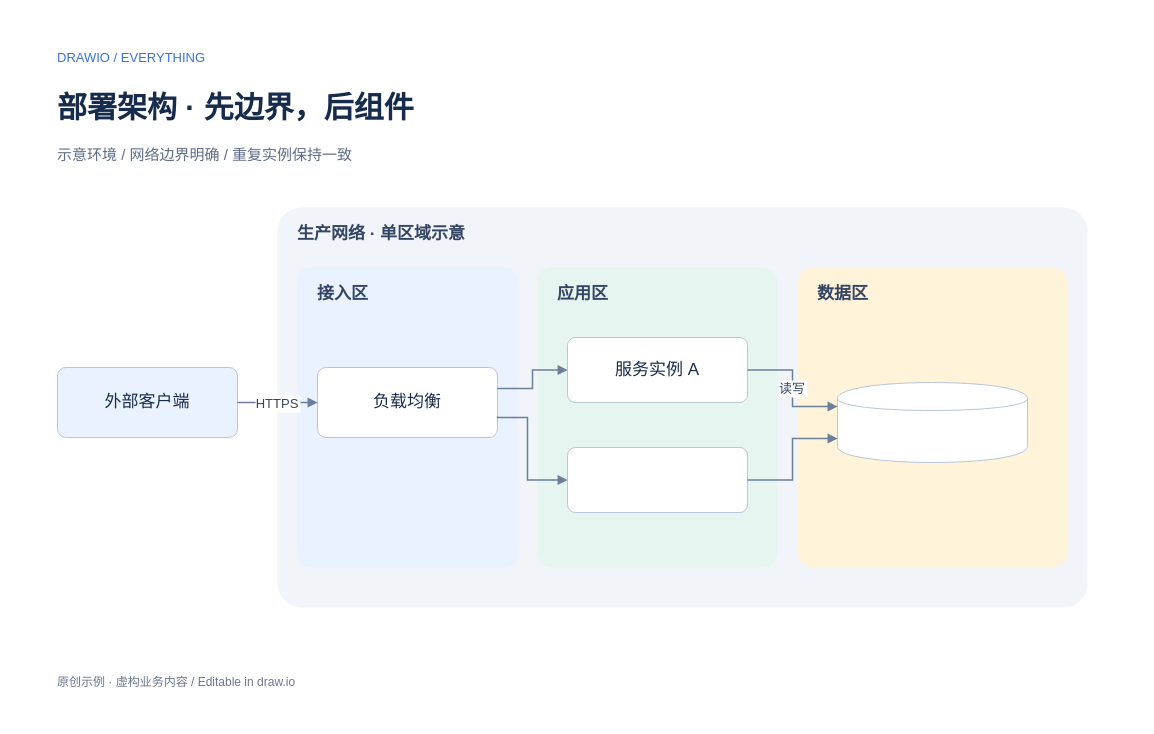
This 1154x734 diagram has some shape labels left out. Here are the shapes that lost their labels. From the top down, the centre of each, then its label:
the point at 932,422: 业务数据库
the point at 657,479: 服务实例 B
